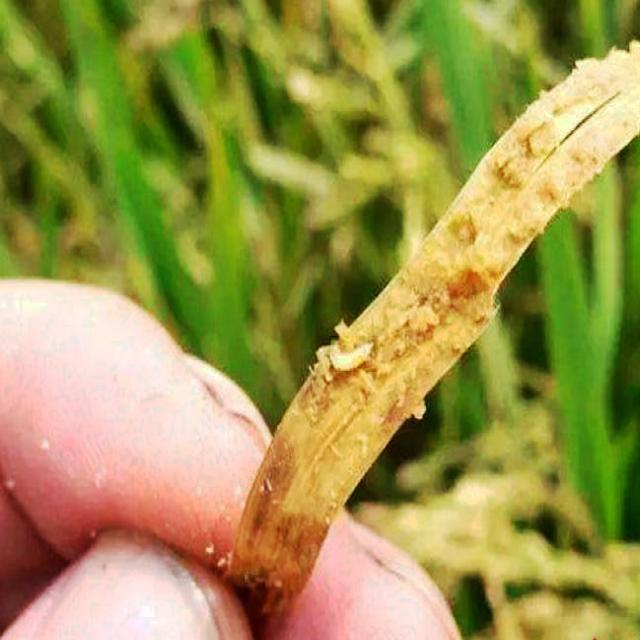whorl-maggot: (329, 336, 378, 372)
